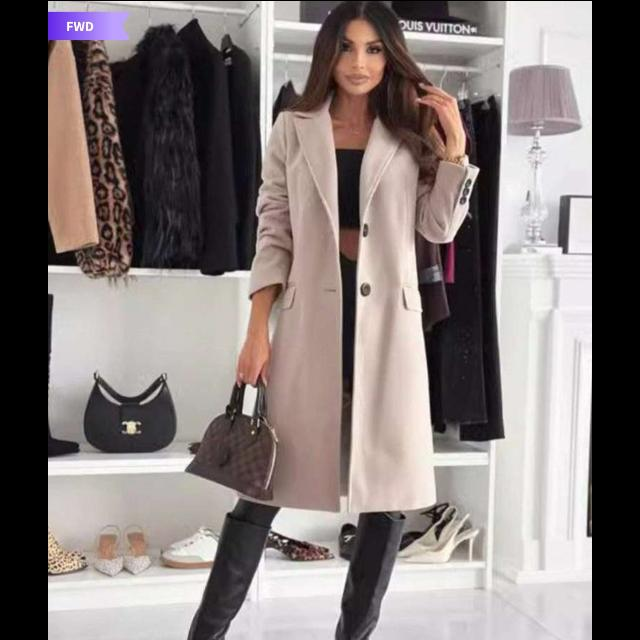handbag: (206, 379, 284, 497)
jacket: (276, 111, 438, 501)
